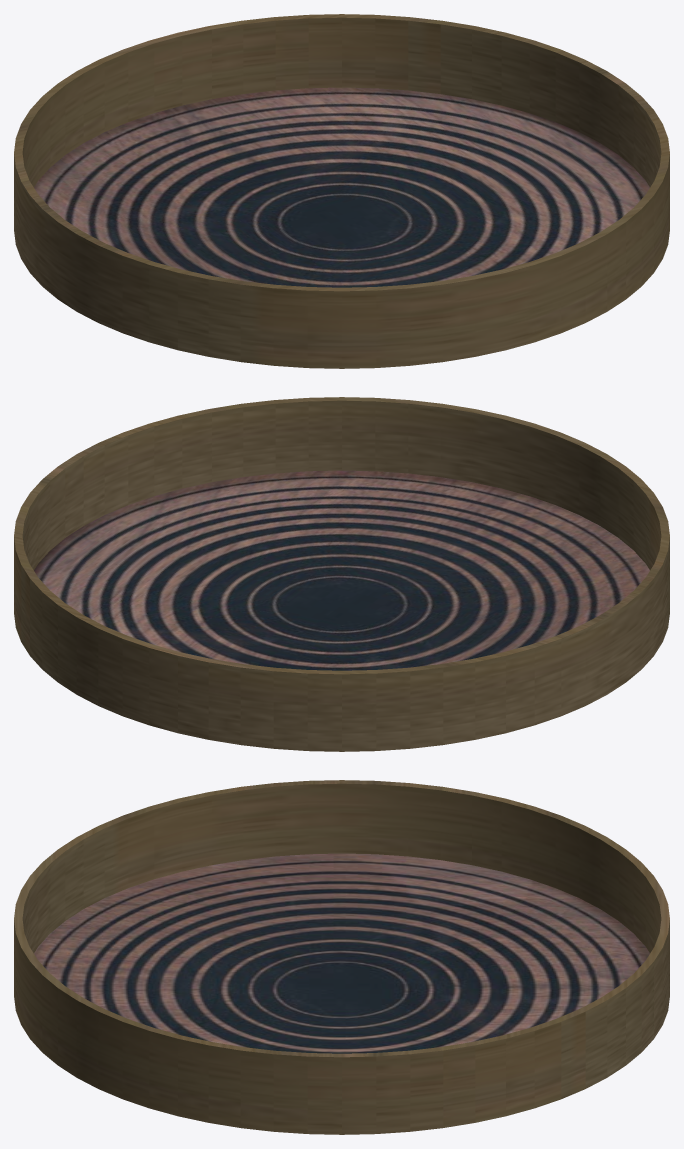
The model's file is Royal_CirclesGlassValetTray-Round.glb.
The picture shows the model from 3 angles, top to bottom: view 1: azimuth 30°, elevation 25°; view 2: azimuth 150°, elevation 25°; view 3: azimuth 270°, elevation 25°; orthographic projection.
Visible parts, largest first — view 1: model 14; view 2: model 14; view 3: model 14.
Boxes of the visible parts, <box> form: model 14: <box>14,14,669,368</box>; model 14: <box>14,397,669,751</box>; model 14: <box>14,780,669,1134</box>.
Bounding box in the file's own units: 0.23 × 0.03 × 0.23.
Materials: 2 (2 with a texture image).
